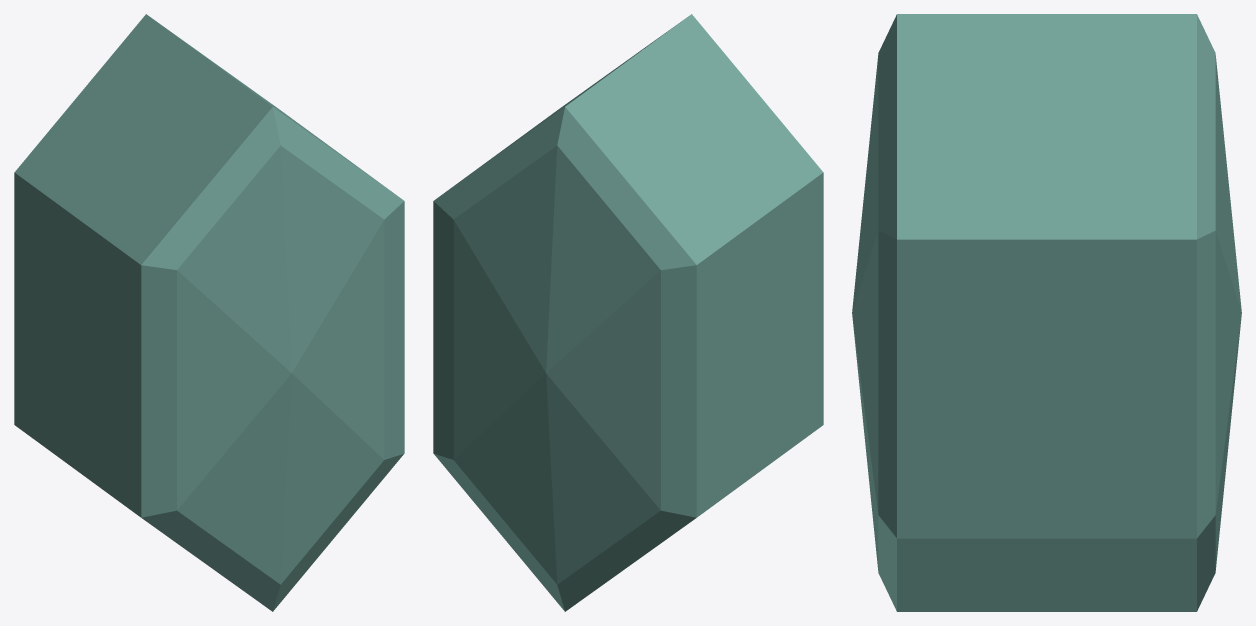
3 views of the same model, side by side, from view 1: azimuth 30°, elevation 25°; view 2: azimuth 150°, elevation 25°; view 3: azimuth 270°, elevation 25° (orthographic). The views are drawn at different scales.
Visible parts, largest first — view 1: object1.031; view 2: object1.031; view 3: object1.031.
Boxes of the visible parts, <box> form: object1.031: <box>14,14,404,611</box>; object1.031: <box>433,14,823,611</box>; object1.031: <box>852,14,1241,611</box>.
Bounding box in the file's own units: 0.3 × 0.55 × 0.325.
